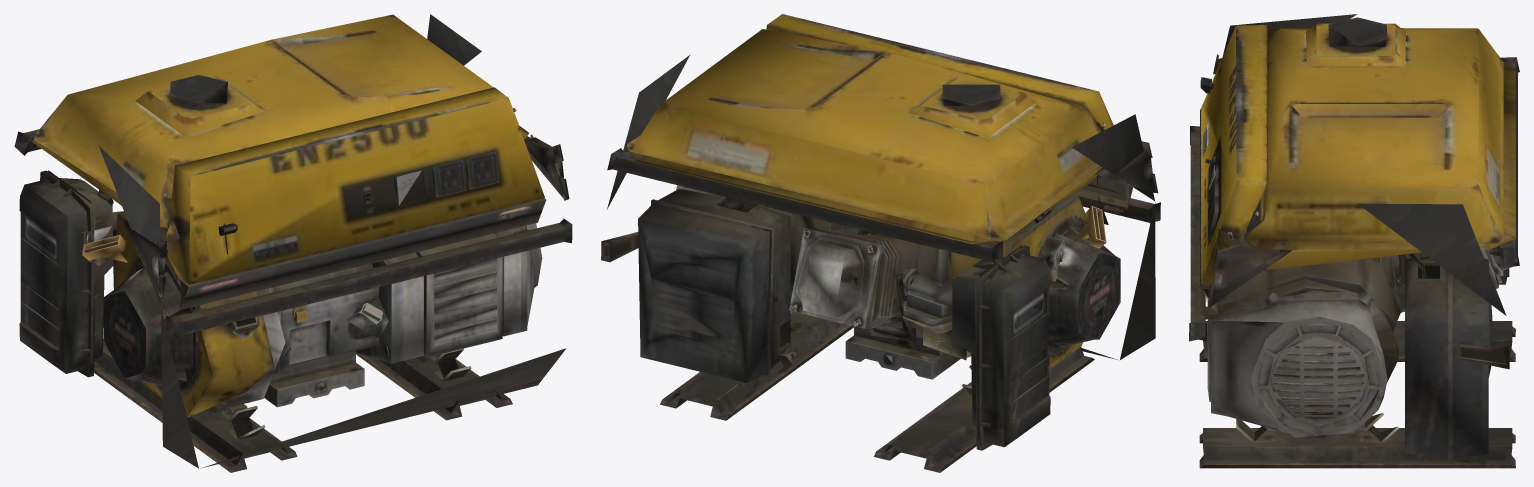
Rendered from portable_generator.glb.
3 renders of one model, left to right at view 1: azimuth 30°, elevation 25°; view 2: azimuth 150°, elevation 25°; view 3: azimuth 270°, elevation 25°, orthographic. The views are drawn at different scales.
Visible parts, largest first — view 1: portable_generator; view 2: portable_generator; view 3: portable_generator.
Part boxes in pixels (x1,y1,x2,y2): portable_generator: (14, 14, 572, 472); portable_generator: (601, 14, 1160, 472); portable_generator: (1189, 14, 1519, 468).
Size of the model in its own units: 0.8086 by 0.5747 by 0.5382.
2 materials, 2 textured.
